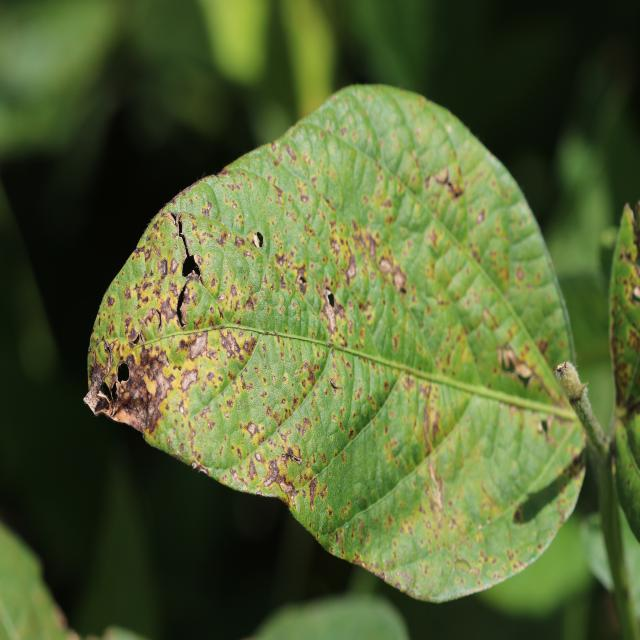Bacterial_Blight: (497, 345, 557, 401), (136, 350, 176, 425), (283, 472, 327, 520), (377, 252, 409, 297), (326, 288, 353, 339), (613, 347, 638, 399), (617, 269, 640, 322), (430, 166, 462, 199), (219, 329, 246, 361), (422, 395, 435, 456), (562, 452, 586, 484), (138, 306, 162, 336), (452, 539, 473, 573), (186, 331, 209, 358), (181, 253, 202, 280), (88, 363, 106, 391), (158, 211, 178, 234), (343, 250, 357, 280), (284, 447, 304, 465), (482, 308, 497, 329), (191, 462, 211, 476), (295, 266, 307, 288), (537, 338, 550, 358), (278, 478, 294, 494), (158, 257, 169, 280), (284, 144, 297, 163), (619, 244, 631, 264), (272, 183, 284, 202), (127, 327, 141, 343), (246, 422, 260, 438), (513, 506, 525, 524), (247, 459, 257, 480), (275, 252, 287, 269), (201, 201, 213, 218), (169, 258, 180, 275), (234, 234, 246, 249), (105, 295, 115, 309), (476, 209, 485, 224), (230, 284, 238, 299), (300, 193, 310, 204), (348, 427, 355, 440), (226, 399, 234, 409)
Soybean: (83, 85, 615, 607)
